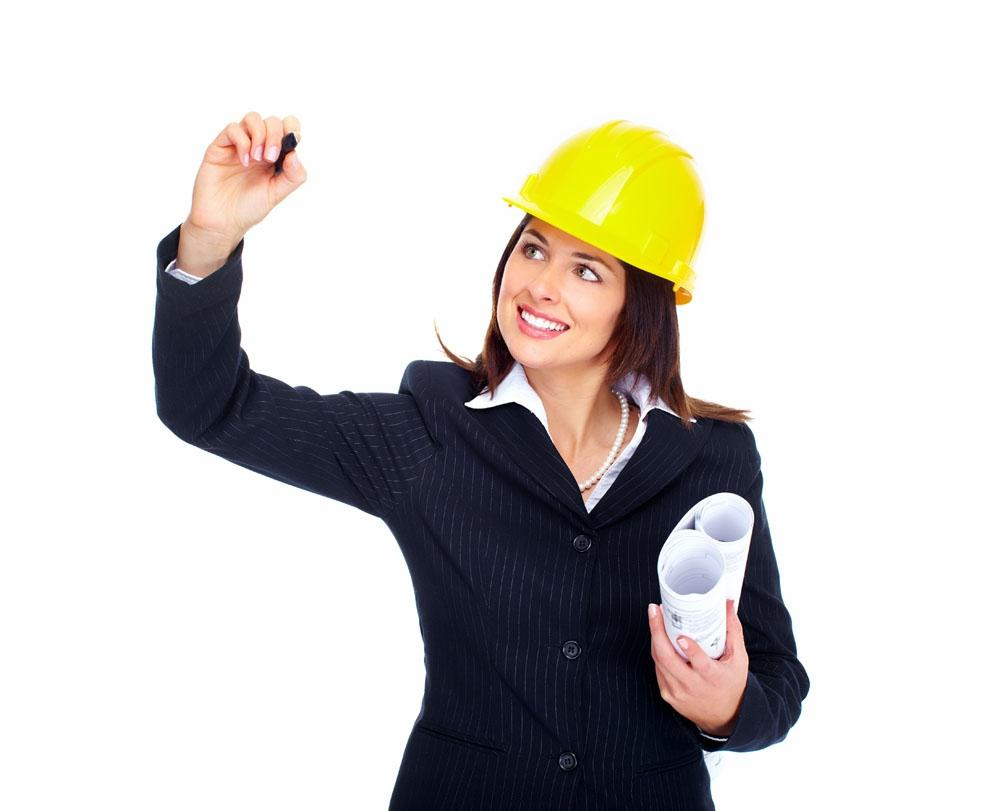helmet: (496, 118, 745, 305)
no_wear: (404, 376, 729, 810)
